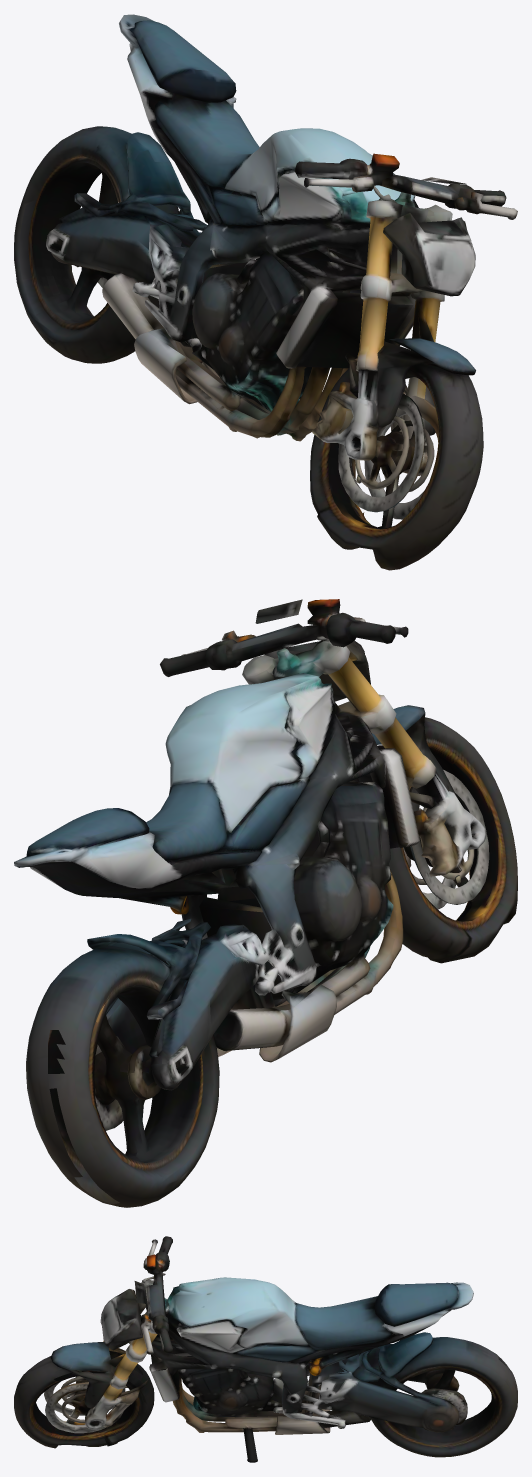
Rendered from crashed_motorbike_fe109b2a_v4.glb.
3 renders of one model, top to bottom at view 1: azimuth 30°, elevation 25°; view 2: azimuth 150°, elevation 25°; view 3: azimuth 270°, elevation 25°, orthographic. The views are drawn at different scales.
Parts seen in each view (by area): view 1: material; view 2: material; view 3: material.
Part boxes in pixels (x1,y1,x2,y2): material: (14, 14, 517, 570); material: (14, 599, 517, 1207); material: (14, 1236, 517, 1462).
Size of the model in its own units: 0.664 by 0.9158 by 1.9.
1 material, 1 textured.
